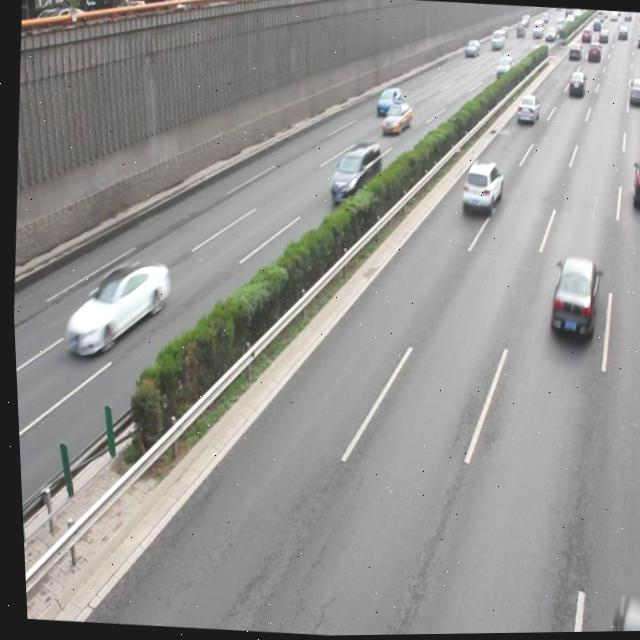car: (56, 252, 171, 360), (541, 254, 598, 342), (455, 159, 502, 217), (377, 100, 409, 136), (372, 85, 400, 118), (626, 156, 640, 217), (513, 94, 538, 127)
truck: (324, 139, 381, 209)
